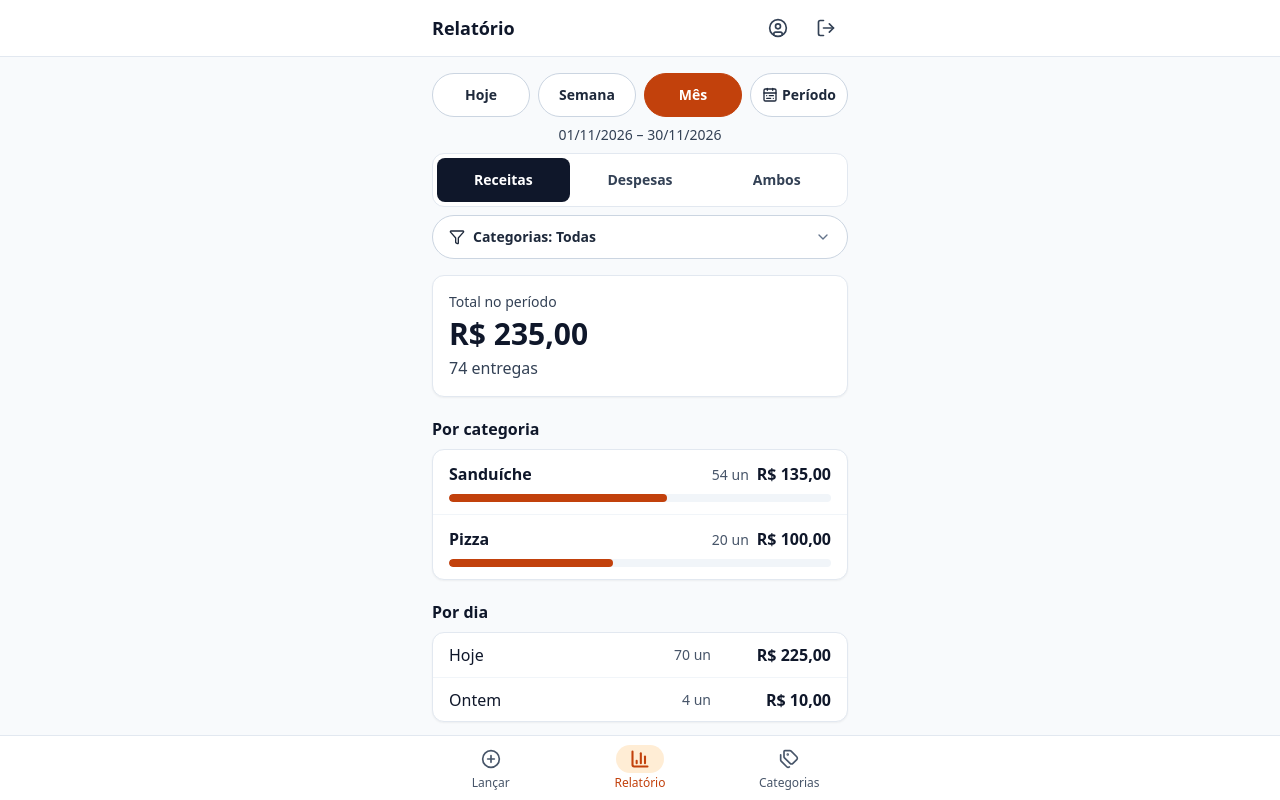
RelatorioPage › filtro por categorias › desmarcar Sanduíche + Aplicar → total R$ 100,00 e por dia filtrado
Expected: the element "Período" is shown, [432,73,848,117]
Expected: the text "R$ 235,00" is shown, [449,313,588,354]
Click the button "Categorias: Todas" at (534, 236), box [432,215,848,259]
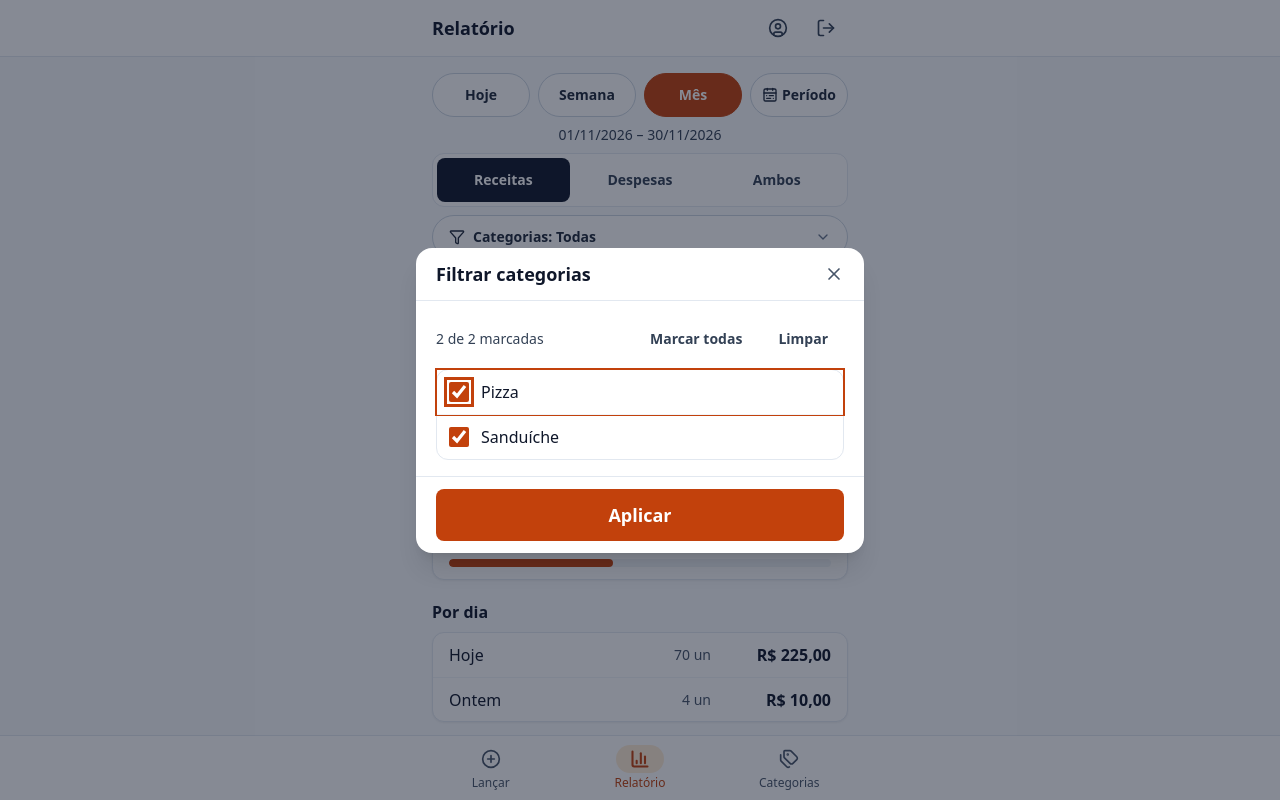
Click the checkbox labelled "Sanduíche" at (459, 436), box [449,426,469,446]
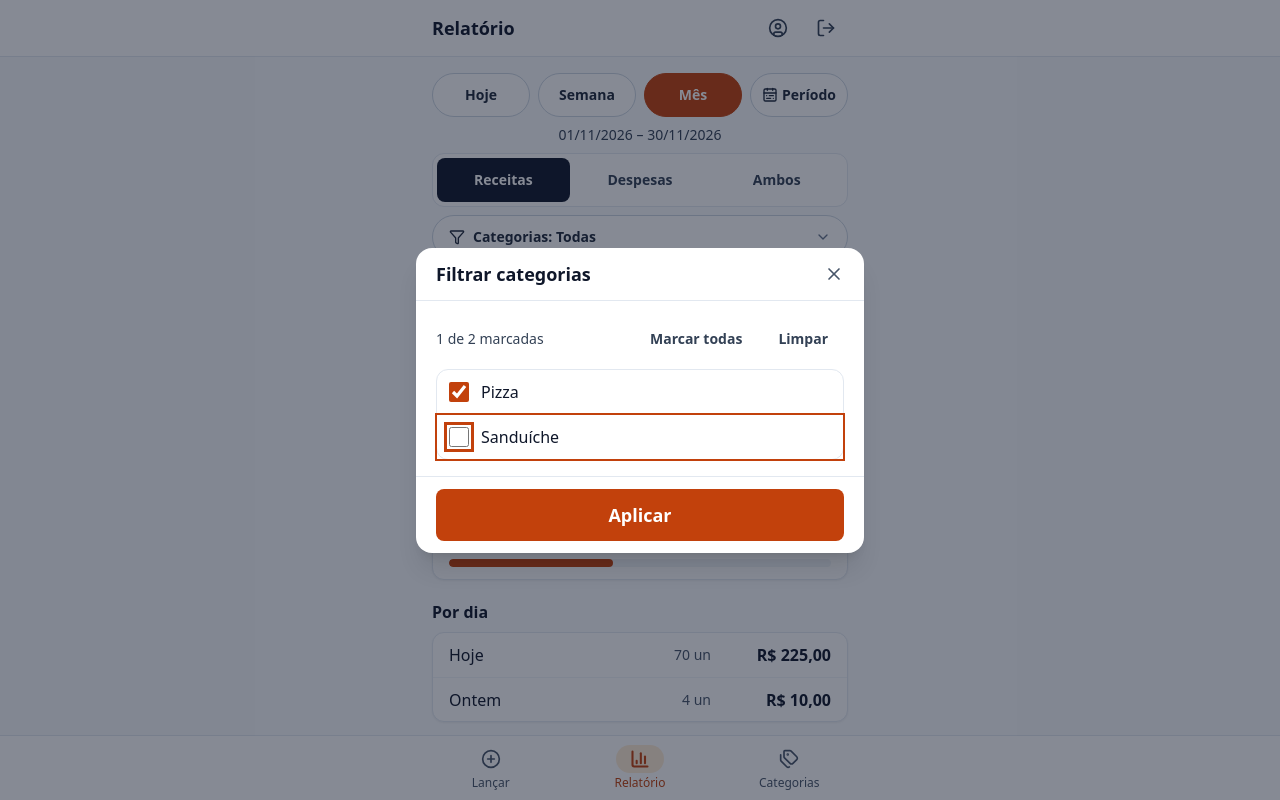
Expected: the checkbox labelled "Pizza" is checked, [449,382,469,402]
Click the button "Aplicar" at (640, 514), box [436,488,844,540]
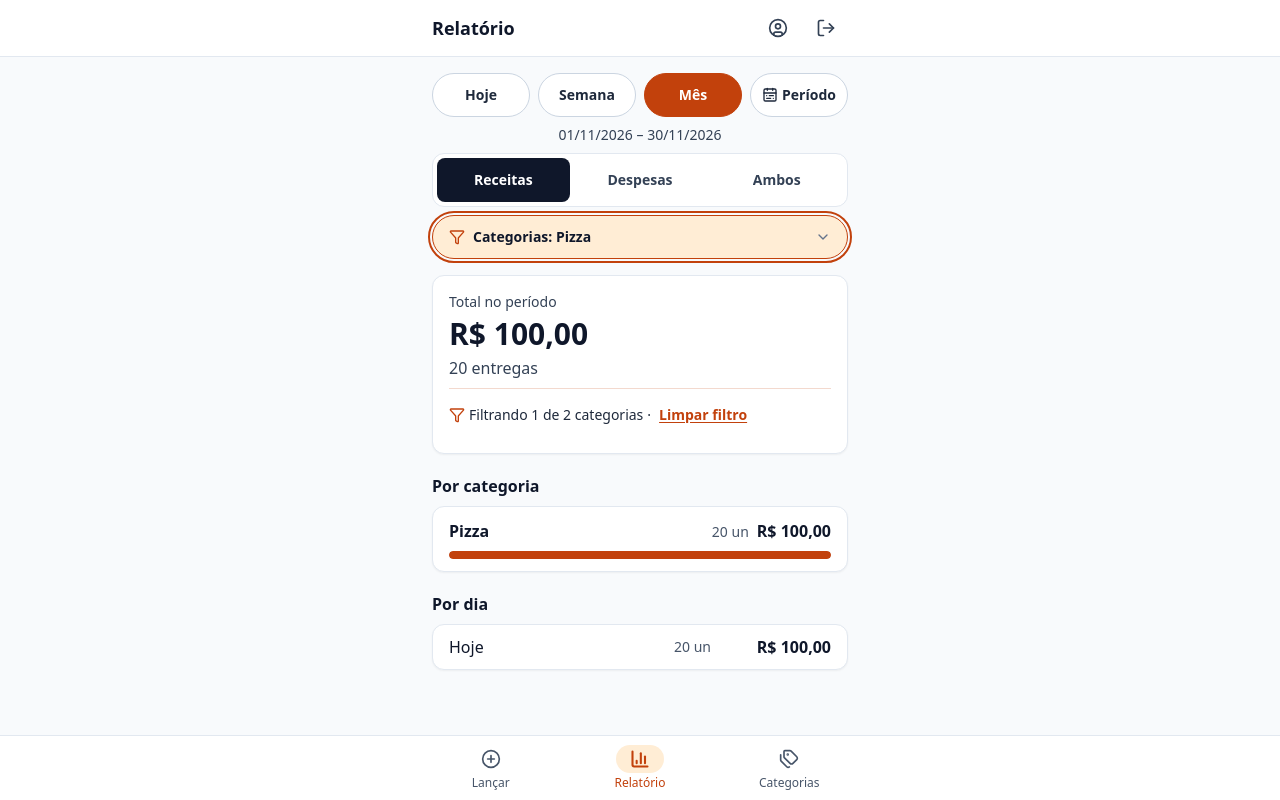
Expected: the dialog is gone
Expected: the button "Categorias: Pizza" is shown, [432,215,848,259]
Expected: the text "R$ 100,00" below "Total no período" is shown, [449,313,588,354]
